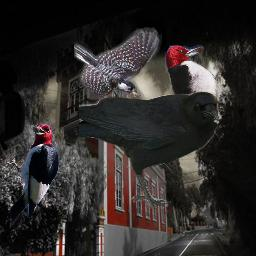Crow: (79, 91, 220, 209)
Woodpecker: (2, 117, 60, 231), (74, 27, 162, 101), (165, 45, 225, 142)
